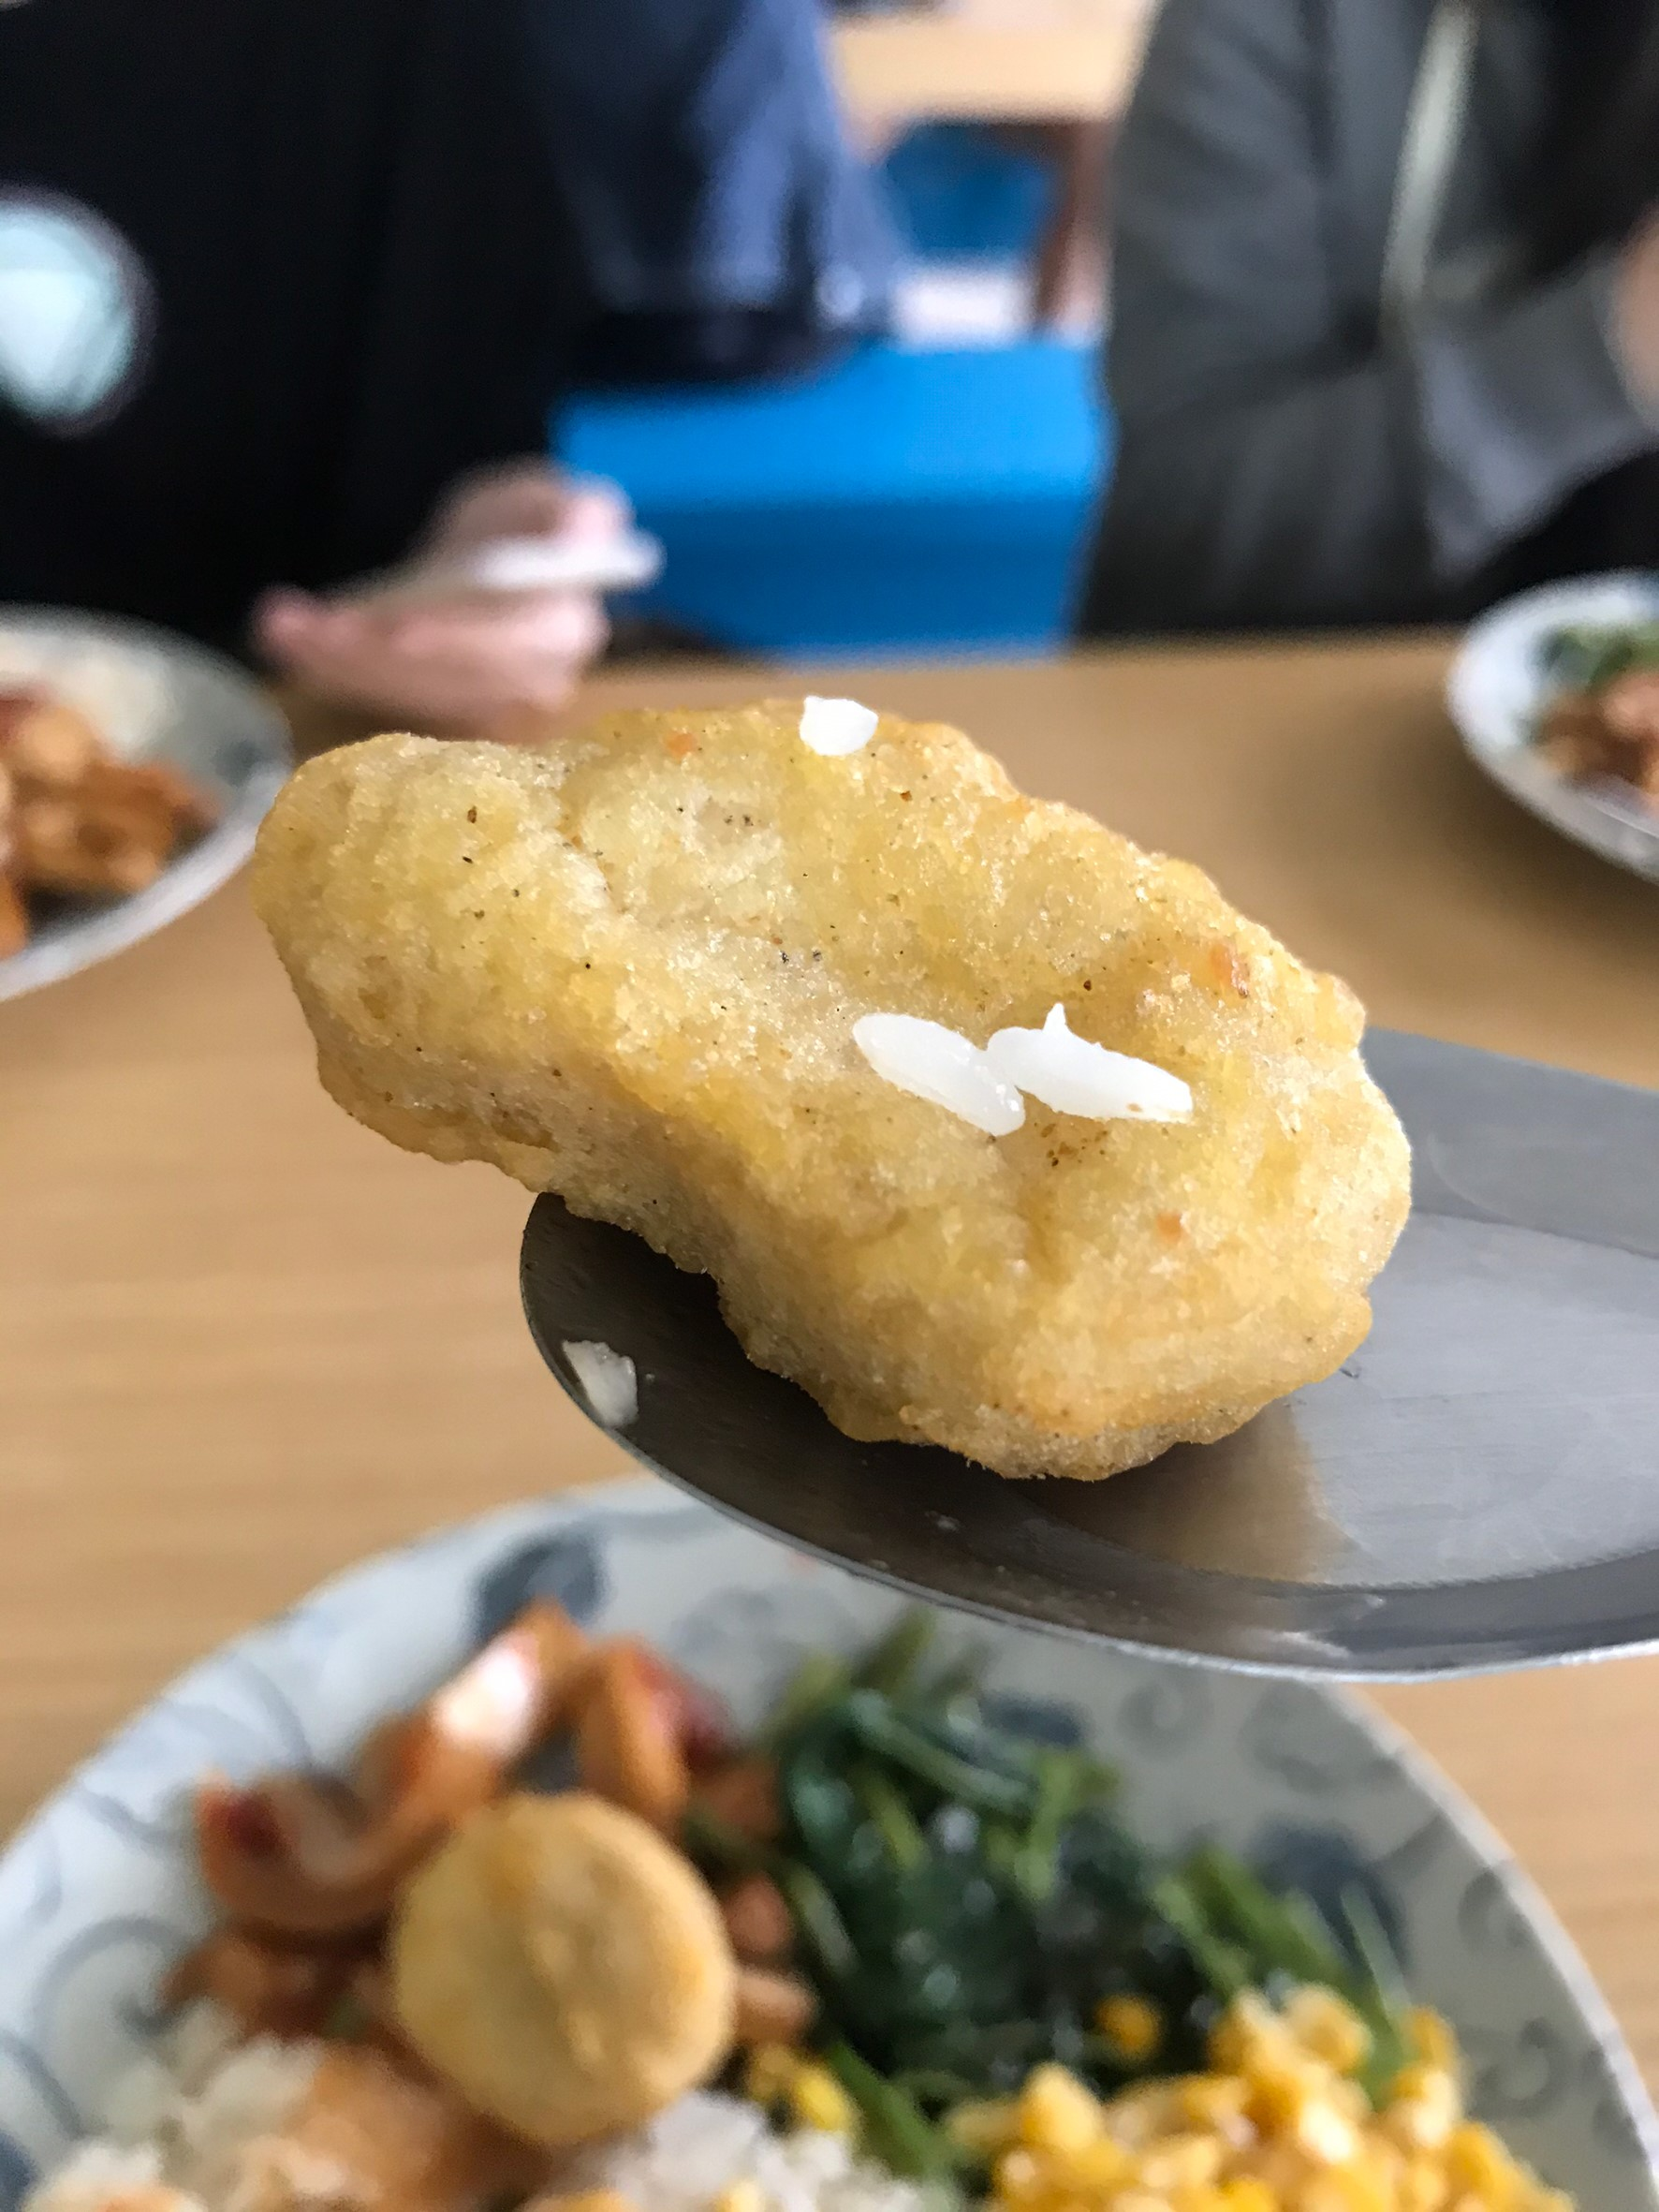chicken_nuggets: (234, 690, 1419, 1492)
